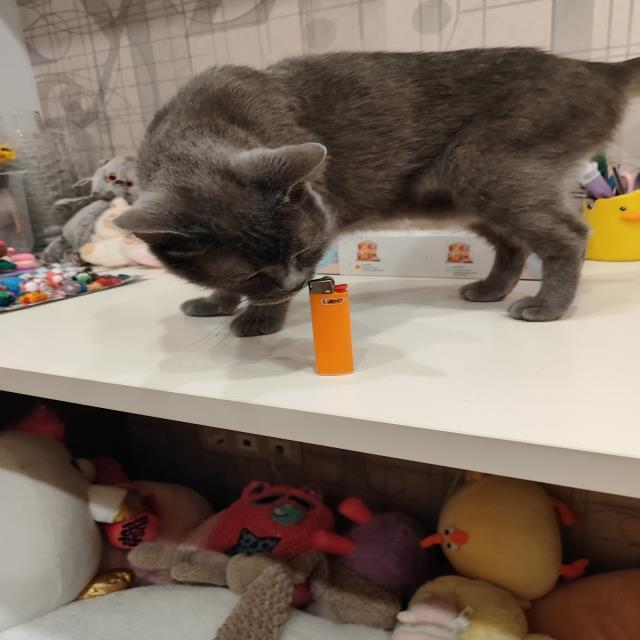lighter: (309, 276, 353, 375)
